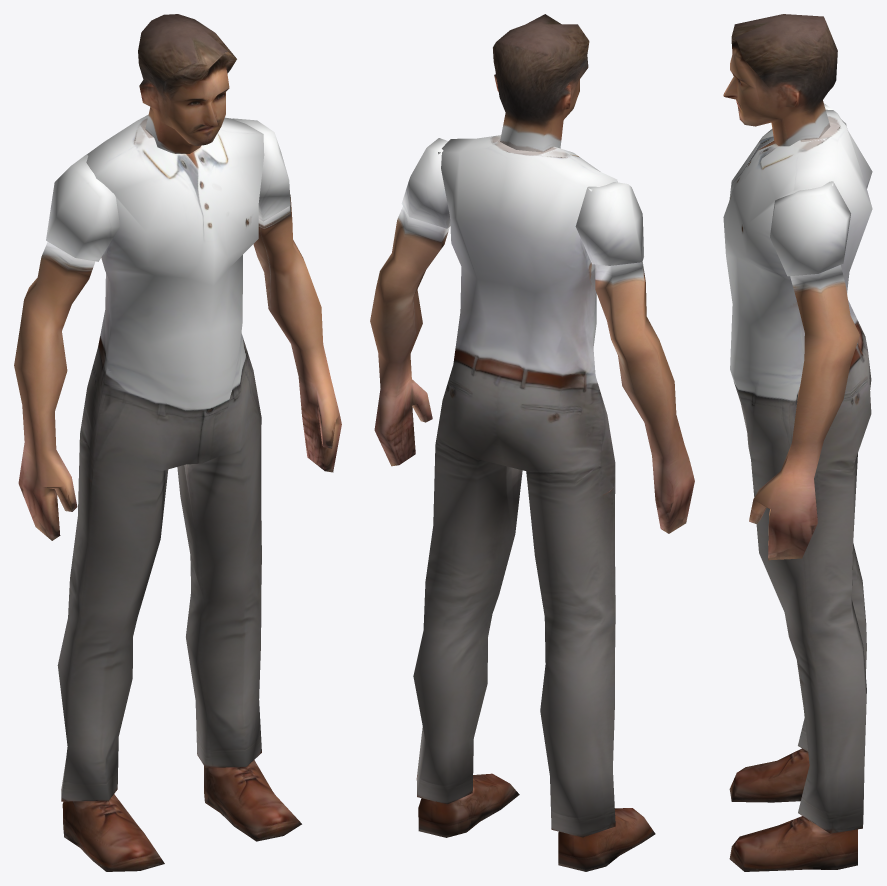
File: SteveAinsleyPSX.fbx
3 views of the same model, side by side, from view 1: azimuth 30°, elevation 25°; view 2: azimuth 150°, elevation 25°; view 3: azimuth 270°, elevation 25° (orthographic).
Visible parts, largest first — view 1: male_player; view 2: male_player; view 3: male_player.
Part boxes in pixels (x1,y1,x2,y2): male_player: (14,14,341,871); male_player: (370,14,694,871); male_player: (723,14,872,871).
Size of the model in its own units: 77.79 by 200 by 33.54.
Materials: 1 (1 with a texture image).
